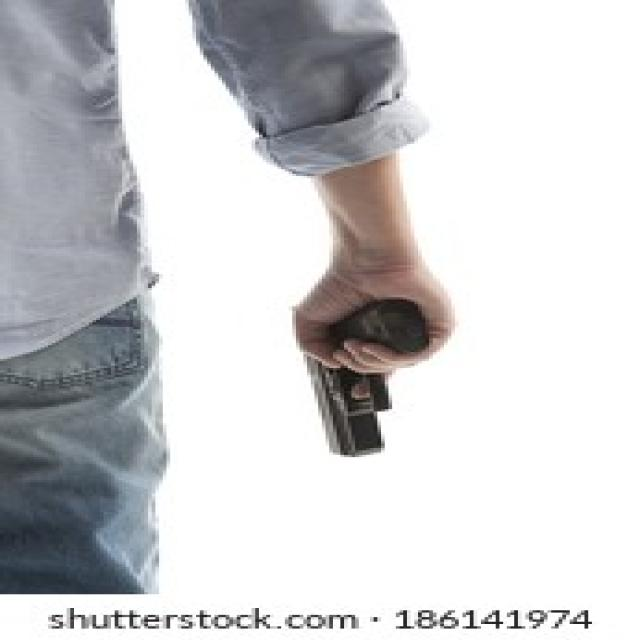HandGun: (266, 287, 458, 472)
